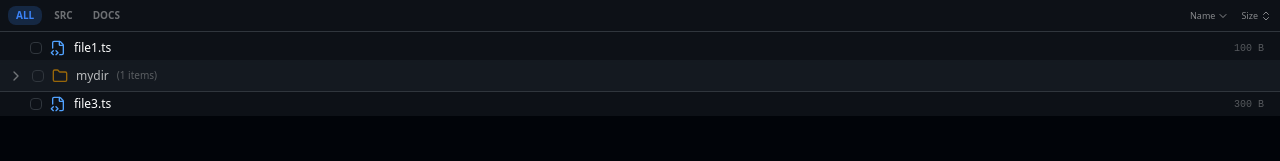
Test: FileTree Indexing Scenarios › Mixed content at root › should render mixed files and folders at root level
expect the text "file1.ts" is shown: met, box [74,38,111,56]
expect the text "mydir" is shown: met, box [76,66,109,84]
Note: Expand folder to see its contents
Click the button with test id "expand-icon" at (16, 76), box [6,66,26,86]
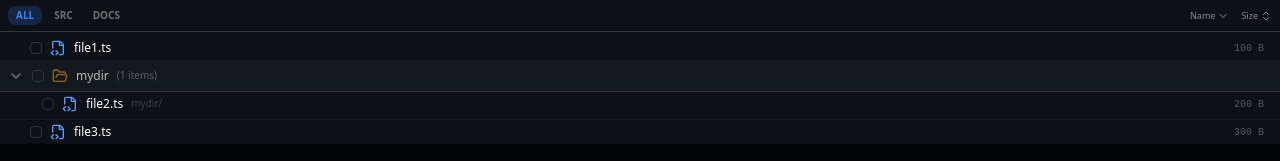
expect the text "file2.ts" is shown: met, box [86,94,123,112]
